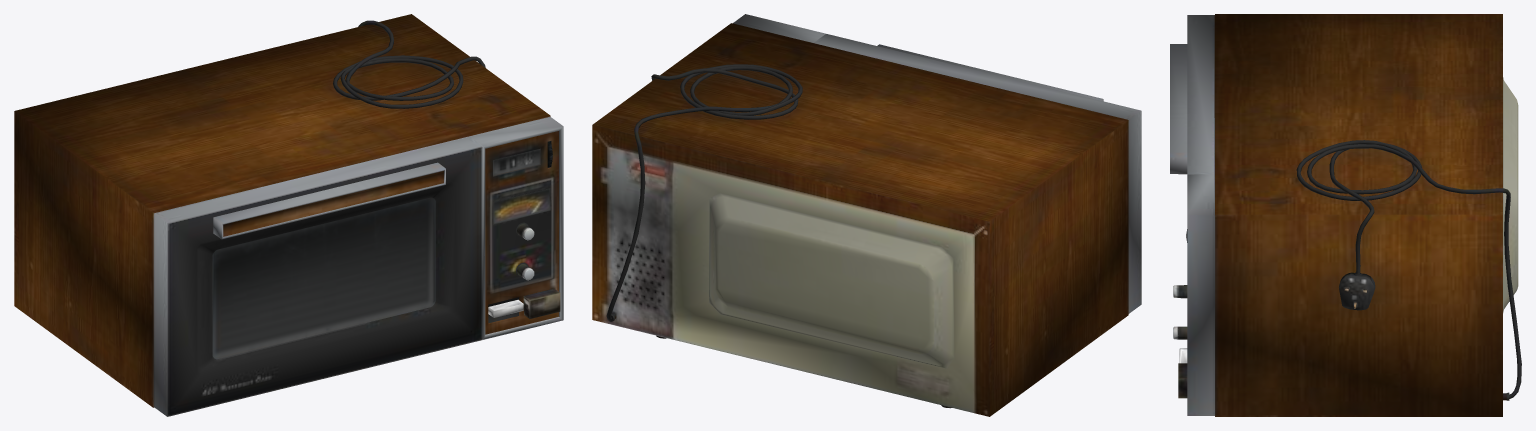
File: vintage_microwave.glb
3 renders of one model, left to right at view 1: azimuth 30°, elevation 25°; view 2: azimuth 150°, elevation 25°; view 3: azimuth 270°, elevation 25°, orthographic. The views are drawn at different scales.
Parts seen in each view (by area): view 1: vintage_microwave; view 2: vintage_microwave; view 3: vintage_microwave.
Part boxes in pixels (bbox=[...]): vintage_microwave: bbox=[14, 14, 563, 416]; vintage_microwave: bbox=[592, 14, 1141, 416]; vintage_microwave: bbox=[1170, 14, 1521, 416].
Size of the model in its own units: 1.07 by 0.5259 by 0.7454.
Materials: 2 (2 with a texture image).
